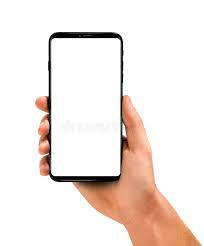Hand: (31, 84, 162, 209)
Smartphone: (51, 27, 121, 179)
